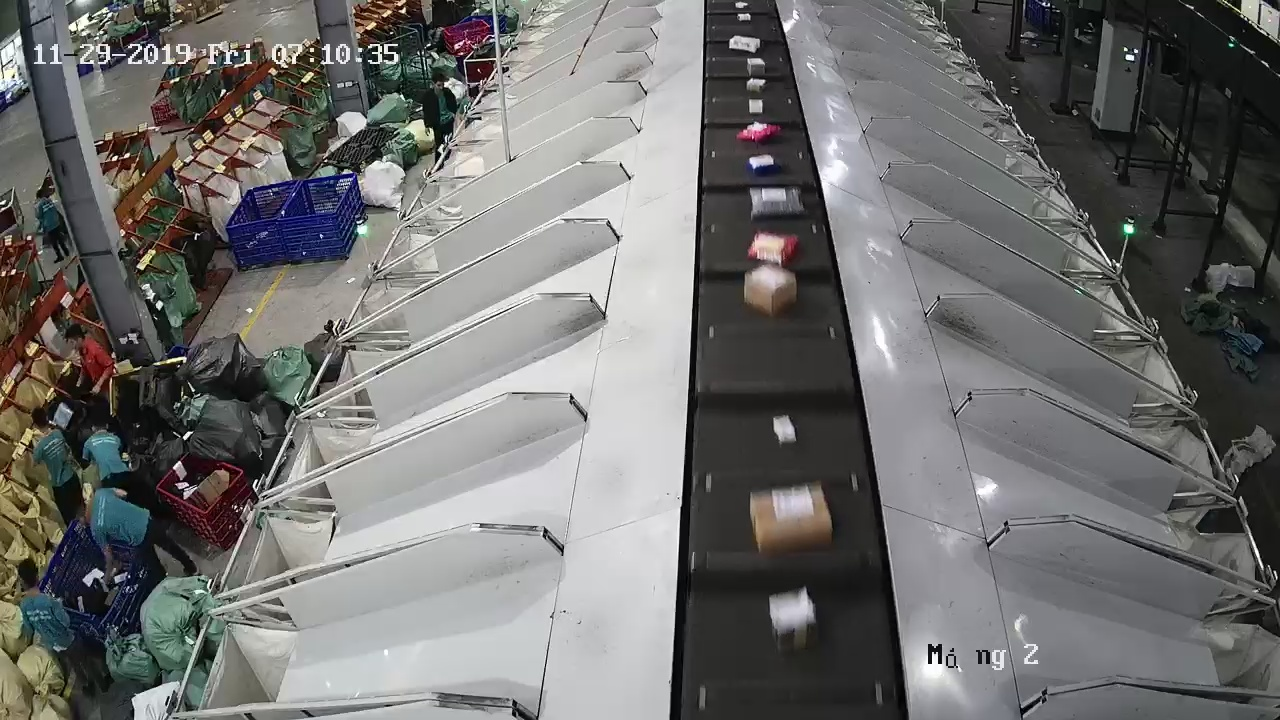parcel: (750, 482, 833, 556), (768, 586, 818, 653), (743, 263, 798, 318), (749, 185, 807, 222), (747, 229, 801, 266), (736, 121, 782, 144), (744, 153, 783, 176), (772, 415, 798, 446)
